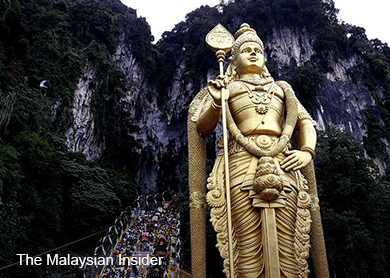Hindu Temple: (180, 16, 319, 278)
